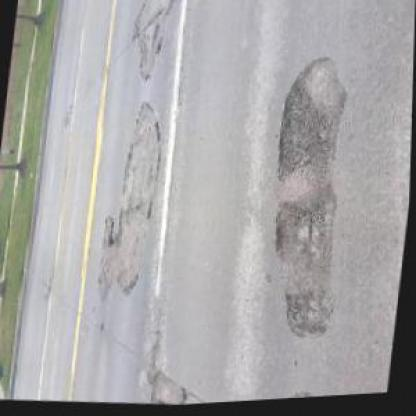pothole: (275, 82, 334, 187), (268, 198, 332, 265), (278, 290, 335, 341), (104, 233, 121, 248)
